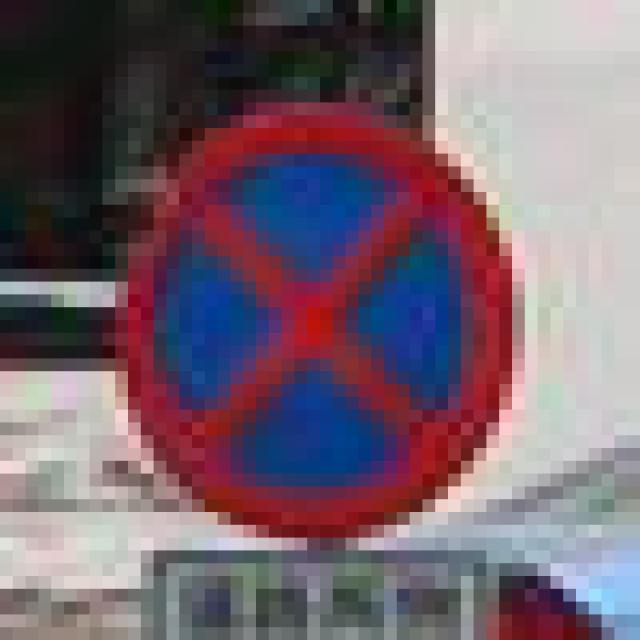no_parking: (115, 90, 499, 538)
